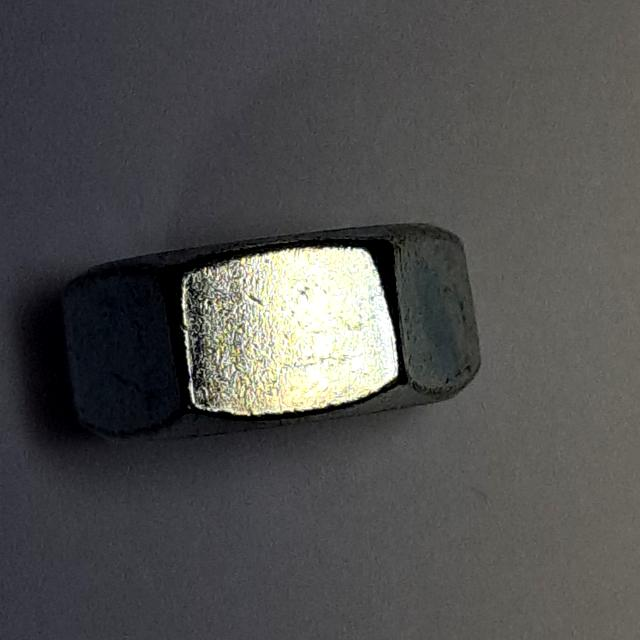Side_Excellent: (49, 203, 494, 469)
